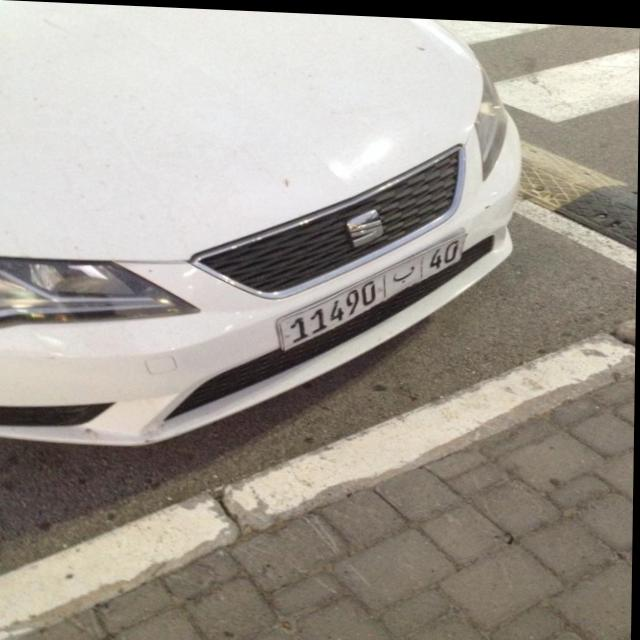License-Plate: (278, 231, 466, 348)
